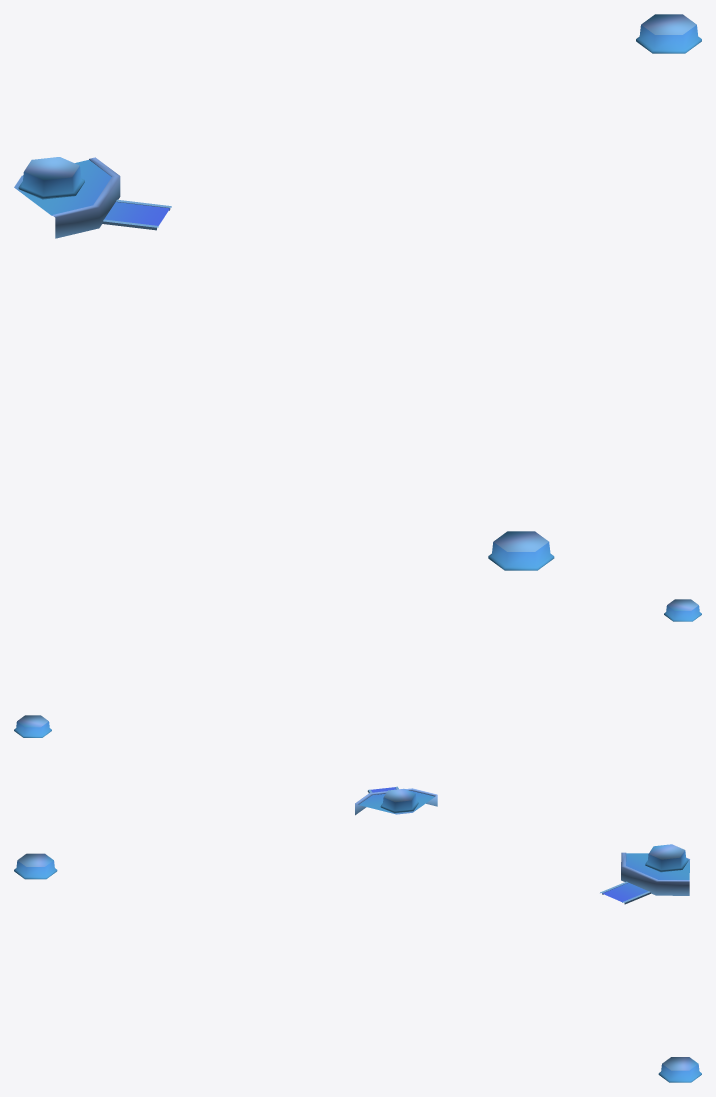
Rendered from Area_12_4.fbx.
3 views of the same model, one above another, from view 1: azimuth 30°, elevation 25°; view 2: azimuth 150°, elevation 25°; view 3: azimuth 270°, elevation 25° (orthographic). The views are drawn at different scales.
Parts seen in each view (by area): view 1: Area_12_4; view 2: Area_12_4; view 3: Area_12_4.
Part boxes in pixels (x1,y1,x2,y2): Area_12_4: (14, 14, 701, 570); Area_12_4: (14, 599, 701, 815); Area_12_4: (14, 844, 701, 1082).
Bounding box in the file's own units: 4564 × 236 × 6018.
